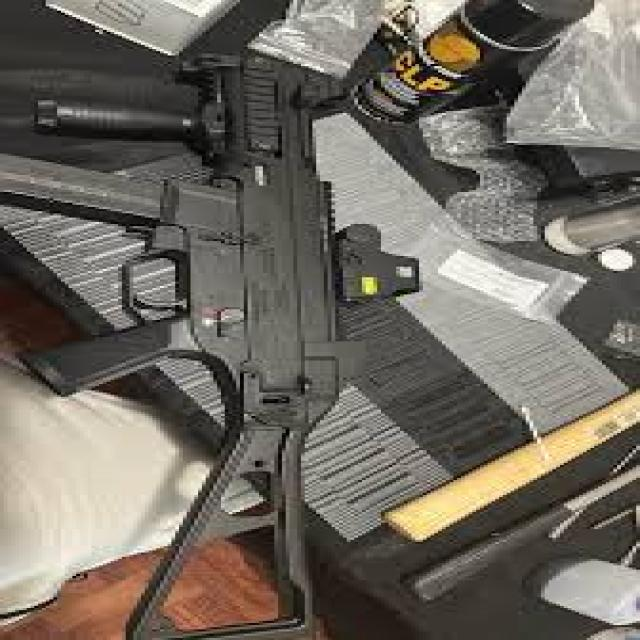Gun: (8, 21, 408, 640)
